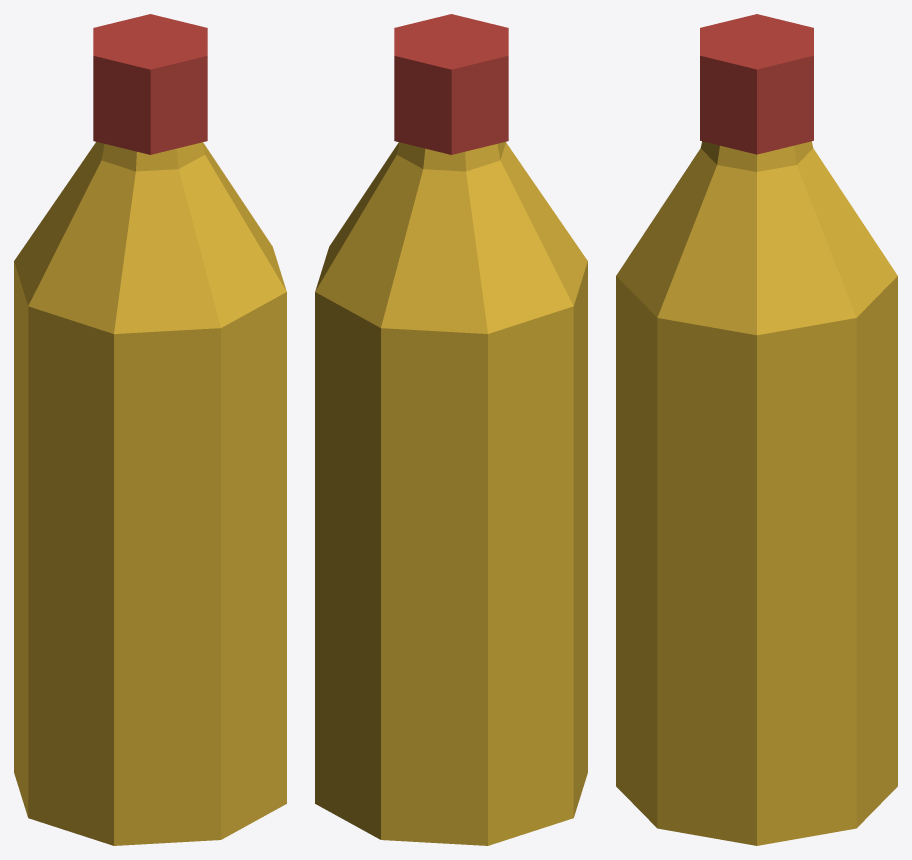
File: FD_Mustard_01.glb
The picture shows the model from 3 angles, left to right: view 1: azimuth 30°, elevation 25°; view 2: azimuth 150°, elevation 25°; view 3: azimuth 270°, elevation 25°; orthographic projection.
Parts seen in each view (by area): view 1: FD_Mustard_01; view 2: FD_Mustard_01; view 3: FD_Mustard_01.
Boxes of the visible parts, x1,y1,x2,y2 form: FD_Mustard_01: (14,14,286,845); FD_Mustard_01: (315,14,587,845); FD_Mustard_01: (616,14,897,845).
Size of the model in its own units: 0.06 by 0.175 by 0.06.
1 material, 1 textured.
